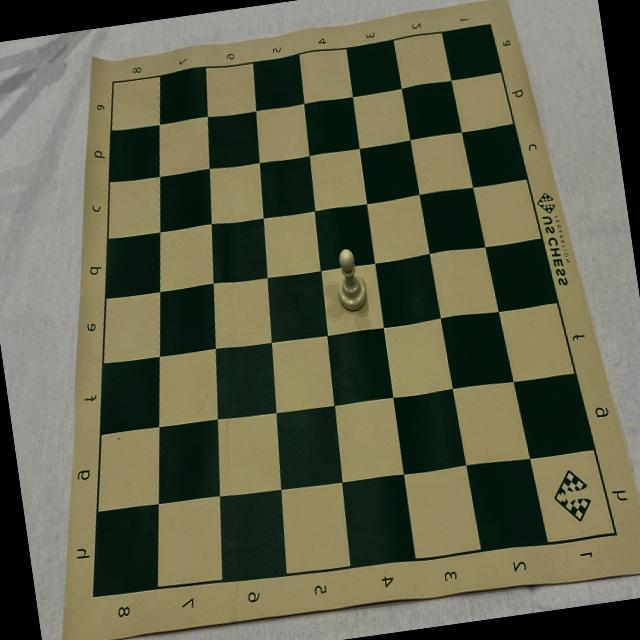white-pawn: (332, 247, 370, 316)
